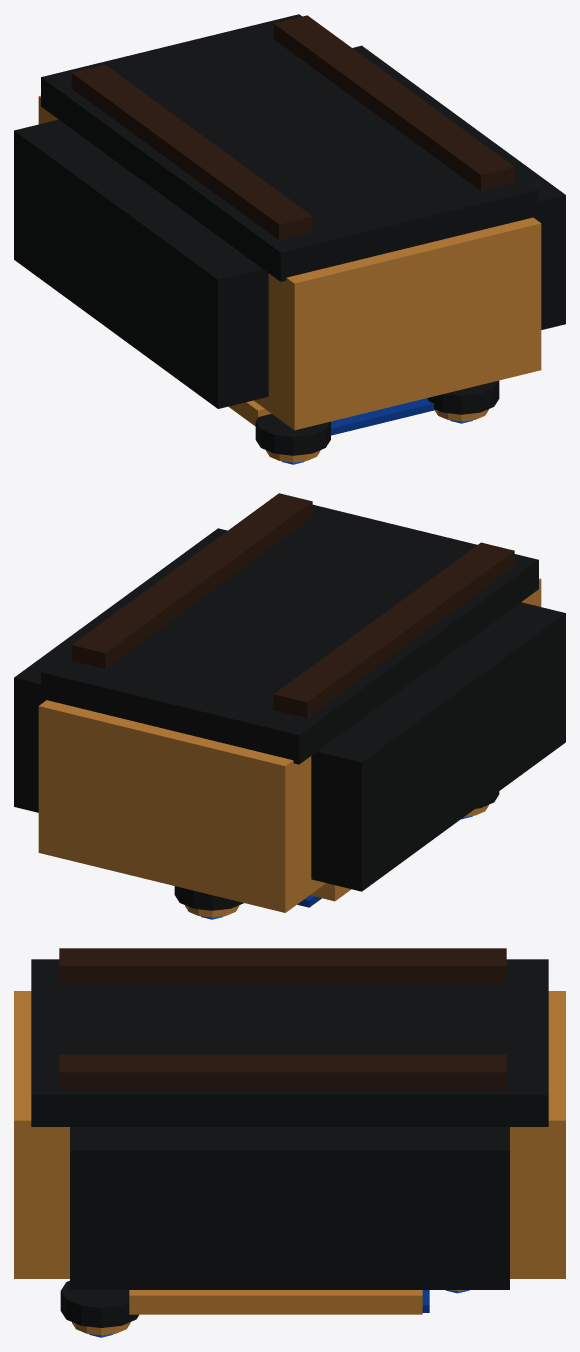
The model's file is SM_Gnome_AetherTek_PowerNexus_FuelCell_01_LOD1.obj.
3 renders of one model, top to bottom at view 1: azimuth 30°, elevation 25°; view 2: azimuth 150°, elevation 25°; view 3: azimuth 270°, elevation 25°, orthographic. The views are drawn at different scales.
Visible parts, largest first — view 1: RearMount_DarkIron_SocketBackplate, TopBottom_Brass_Collars, SideClamp_-25, RearLeather_Strap_-18, RearLeather_Strap_18, SideClamp_25, HardpointSocket_LeftPowerRoute_DarkIronSocketCup, HardpointSocket_RightPowerRoute_DarkIronSocketCup, AetheriumTrace_FrontGlow; view 2: RearMount_DarkIron_SocketBackplate, TopBottom_Brass_Collars, SideClamp_-25, RearLeather_Strap_-18, RearLeather_Strap_18, SideClamp_25, HardpointSocket_LowerReturnRoute_DarkIronSocketCup; view 3: SideClamp_25, RearMount_DarkIron_SocketBackplate, TopBottom_Brass_Collars, RearLeather_Strap_18, RearLeather_Strap_-18, LensGuard_Brass_FrameVertical, HardpointSocket_RightPowerRoute_DarkIronSocketCup.
Part boxes in pixels (x1,y1,x2,y2): RearMount_DarkIron_SocketBackplate: (41,14,538,281); TopBottom_Brass_Collars: (38,95,541,430); SideClamp_-25: (14,119,268,408); RearLeather_Strap_-18: (71,64,312,240); RearLeather_Strap_18: (273,15,514,190); SideClamp_25: (352,45,565,329); HardpointSocket_LeftPowerRoute_DarkIronSocketCup: (255,414,330,455); HardpointSocket_RightPowerRoute_DarkIronSocketCup: (427,380,499,414); AetheriumTrace_FrontGlow: (331,398,435,435); RearMount_DarkIron_SocketBackplate: (41,504,538,764); TopBottom_Brass_Collars: (38,578,541,912); SideClamp_-25: (311,602,565,891); RearLeather_Strap_-18: (273,542,514,718); RearLeather_Strap_18: (71,493,312,668); SideClamp_25: (14,528,227,812); HardpointSocket_LowerReturnRoute_DarkIronSocketCup: (174,886,243,910); SideClamp_25: (70,1127,509,1289); RearMount_DarkIron_SocketBackplate: (31,959,548,1126); TopBottom_Brass_Collars: (14,991,565,1278); RearLeather_Strap_18: (59,1054,506,1089); RearLeather_Strap_-18: (59,948,506,982); LensGuard_Brass_FrameVertical: (129,1290,422,1314); HardpointSocket_RightPowerRoute_DarkIronSocketCup: (60,1280,138,1327).
Bounding box in the file's own units: 62 × 43.8 × 79.
